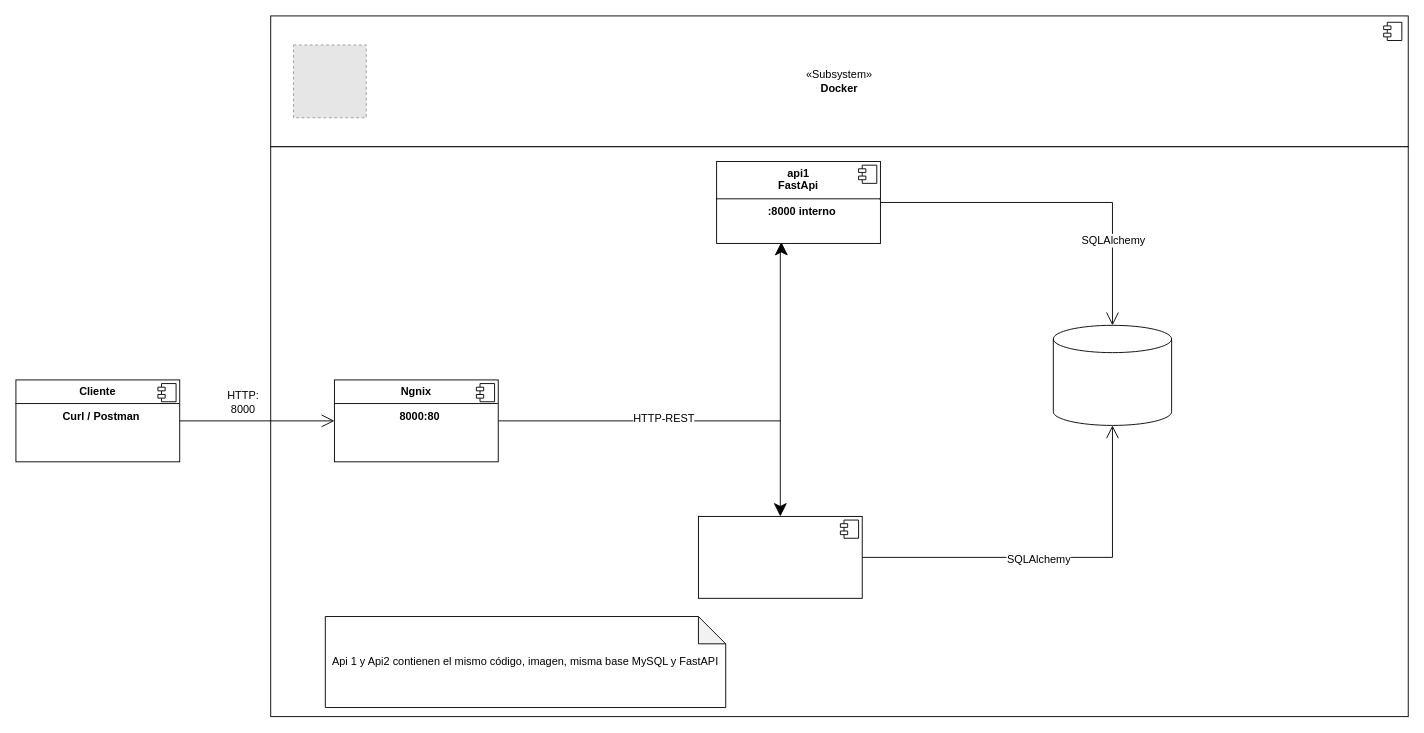
This 1424x733 diagram has some shape labels left out. Grey dashed boxes stand in for pictures. Here are the shapes that lost their labels. From the top down, the centre of each, then its label:
At point (1112, 374): "db My SQL 8.4 3307:3308".
At point (780, 557): "api2 FastApi :8000 interno".
